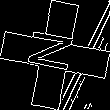N_E: (27, 30, 83, 80)
